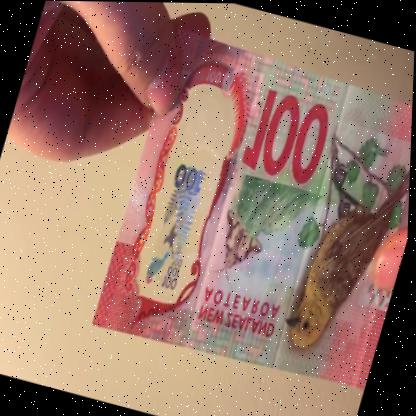100B: (136, 110, 231, 301)
